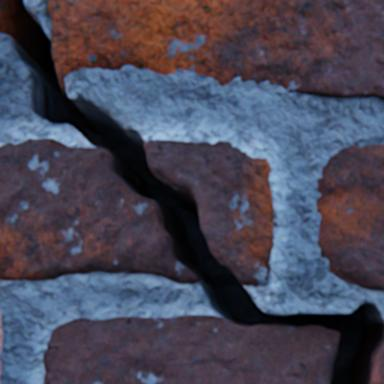brick: (49, 0, 383, 100), (316, 145, 383, 290), (0, 312, 3, 383)
broken_brick: (0, 139, 200, 283), (45, 315, 339, 383), (142, 139, 274, 285), (369, 324, 383, 383)
crack: (0, 0, 382, 383)
